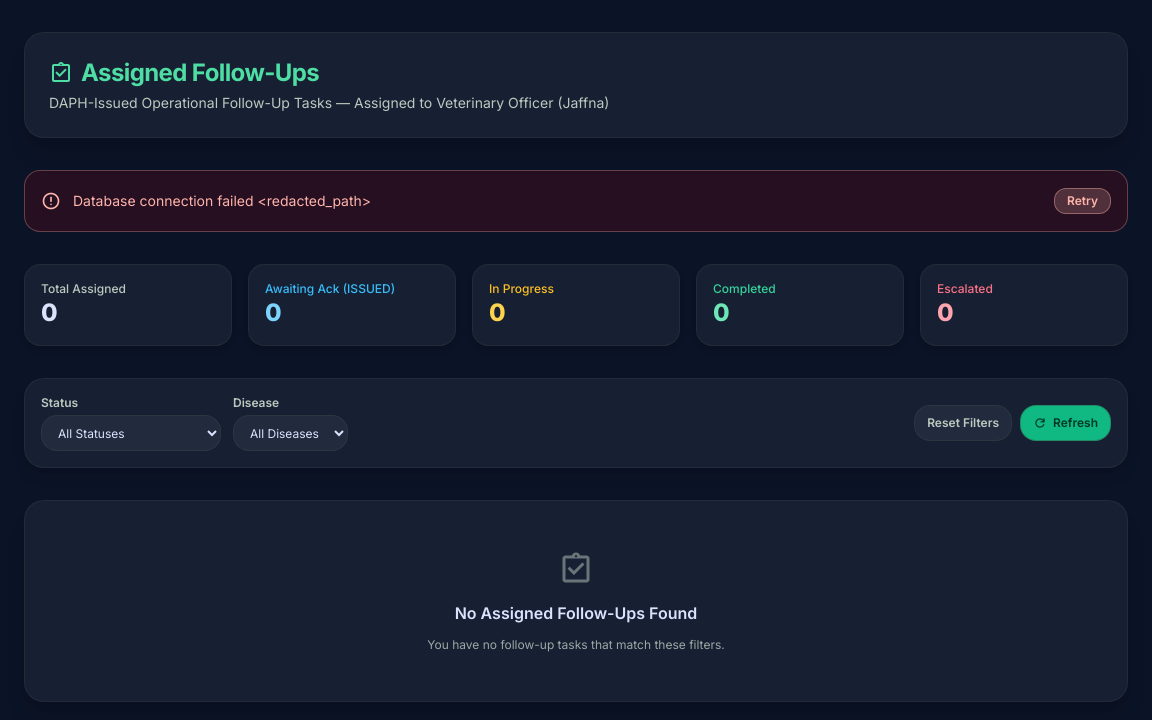
Test: VeterinaryAssignedFollowUps Component › Querying & Scoping › displays error banner and retry button on query failure
Check: the message "Database connection failed <redacted_path> Retry" is shown, box [24, 170, 1128, 232]
Check: the text "Database connection failed <redacted_path>" is shown, box [73, 191, 371, 211]
Click the button "Retry" at (1082, 201), box [1054, 188, 1111, 214]
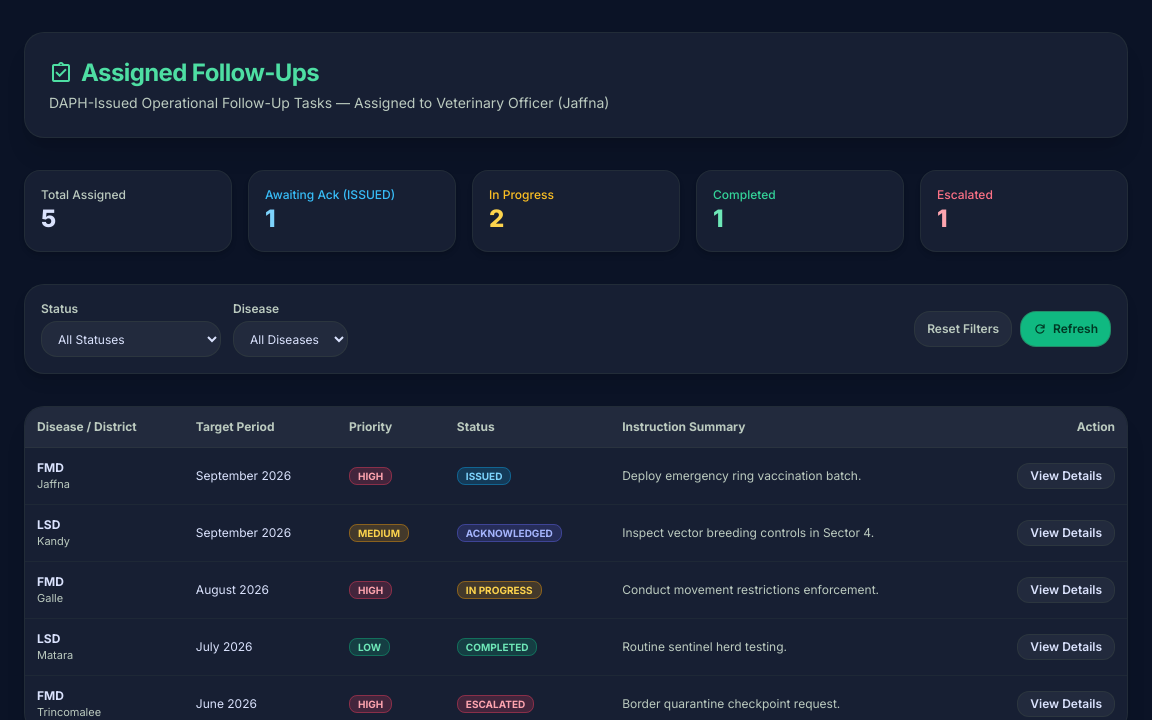
Check: the text "Deploy emergency ring vaccination batch." is shown, box [610, 448, 971, 504]
